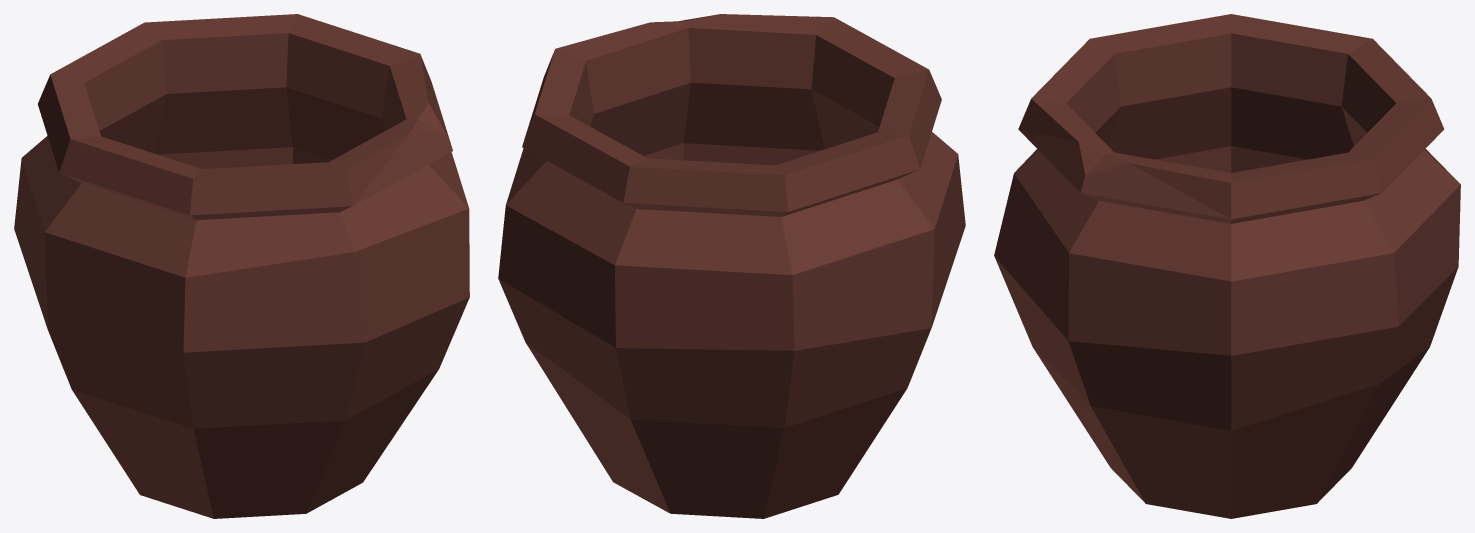
The model's file is SM_Gen_Prop_Pot_05.glb.
3 views of the same model, side by side, from view 1: azimuth 30°, elevation 25°; view 2: azimuth 150°, elevation 25°; view 3: azimuth 270°, elevation 25° (orthographic). The views are drawn at different scales.
Parts seen in each view (by area): view 1: SM_Gen_Prop_Pot_05; view 2: SM_Gen_Prop_Pot_05; view 3: SM_Gen_Prop_Pot_05.
Boxes of the visible parts, x1,y1,x2,y2 form: SM_Gen_Prop_Pot_05: (14, 14, 469, 518); SM_Gen_Prop_Pot_05: (498, 14, 965, 518); SM_Gen_Prop_Pot_05: (994, 14, 1460, 518).
Size of the model in its own units: 0.5387 by 0.4703 by 0.5387.
1 material, 1 textured.
